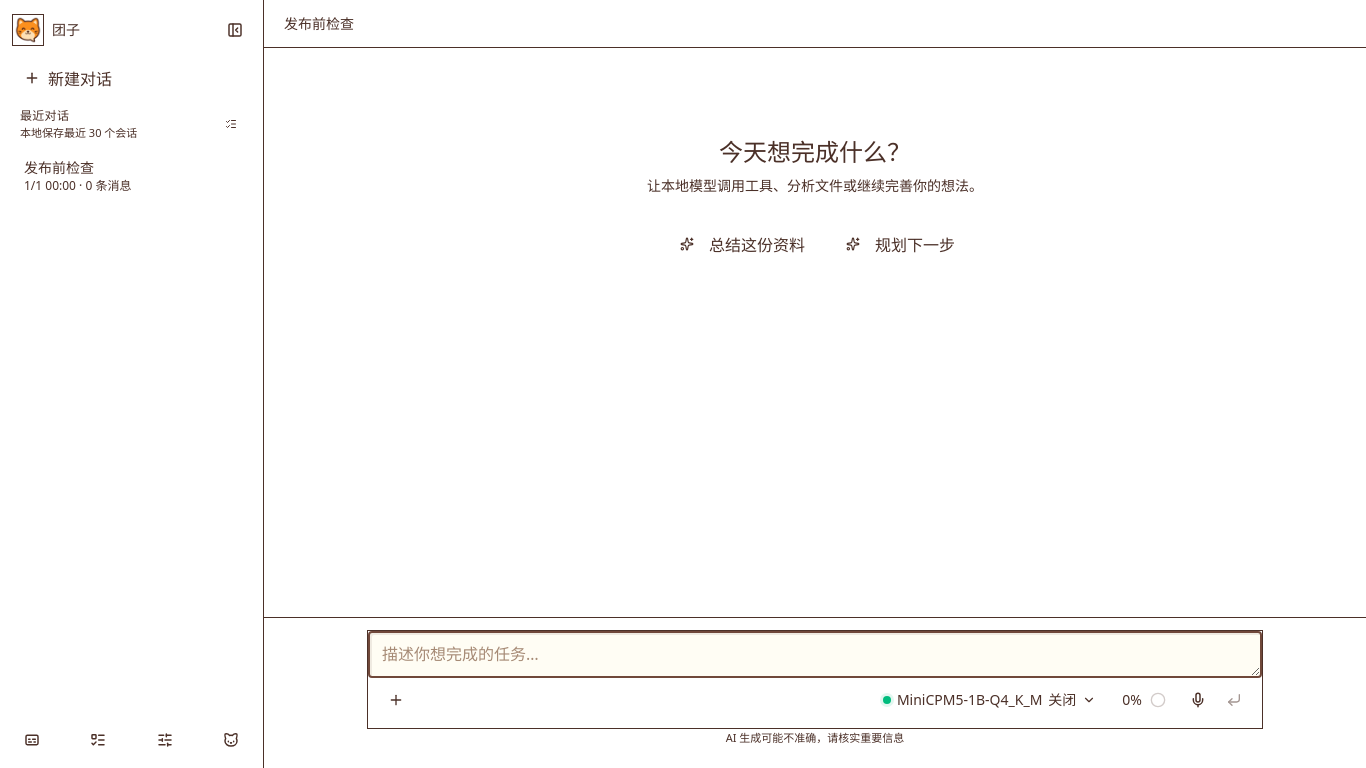
Test: ChatPanel workbench › uses keyboard-accessible official composer controls
Step 1. Click the button with aria-label "模型 MiniCPM5-1B-Q4_K_M，推理关闭" → {"x": 990, "y": 700}, box left=873, top=684, right=1106, bottom=716
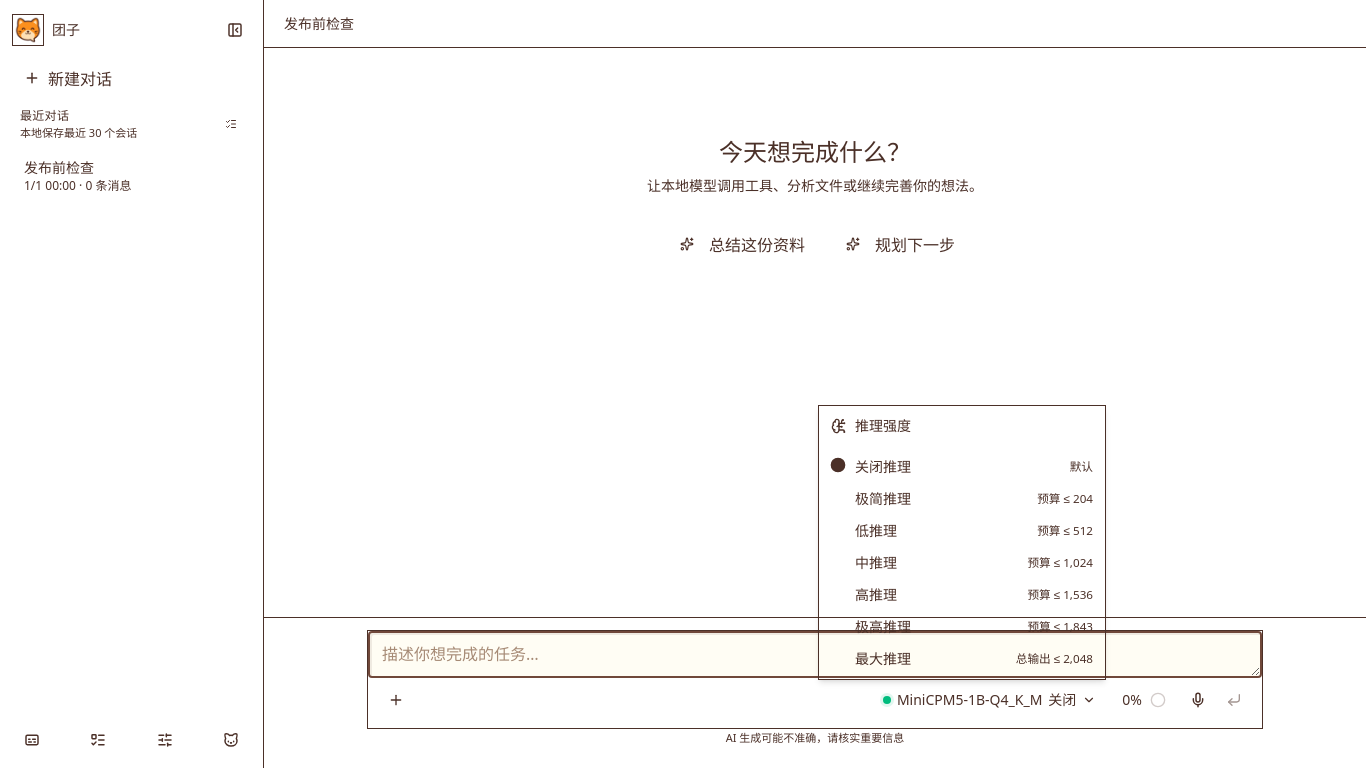
Step 2. Click the menu item "高推理 预算 ≤ 1,536" → {"x": 862, "y": 594}, box left=855, top=585, right=1093, bottom=604
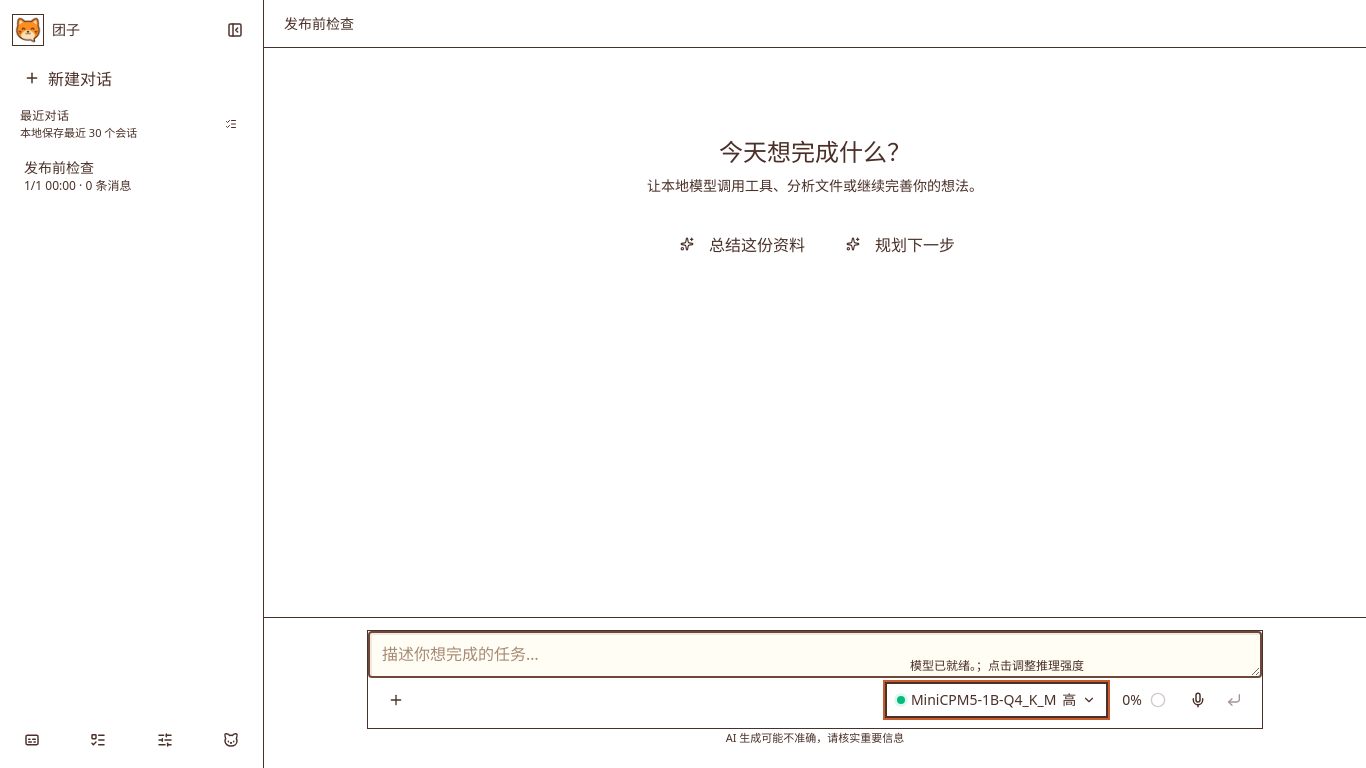
expect the button with aria-label "模型 MiniCPM5-1B-Q4_K_M，推理高" is shown: met, box left=887, top=684, right=1106, bottom=716
Step 3. Click the button named "上下文上限 8,192 token，完成一次回答后显示用量" → {"x": 1144, "y": 700}, box left=1110, top=686, right=1178, bottom=714
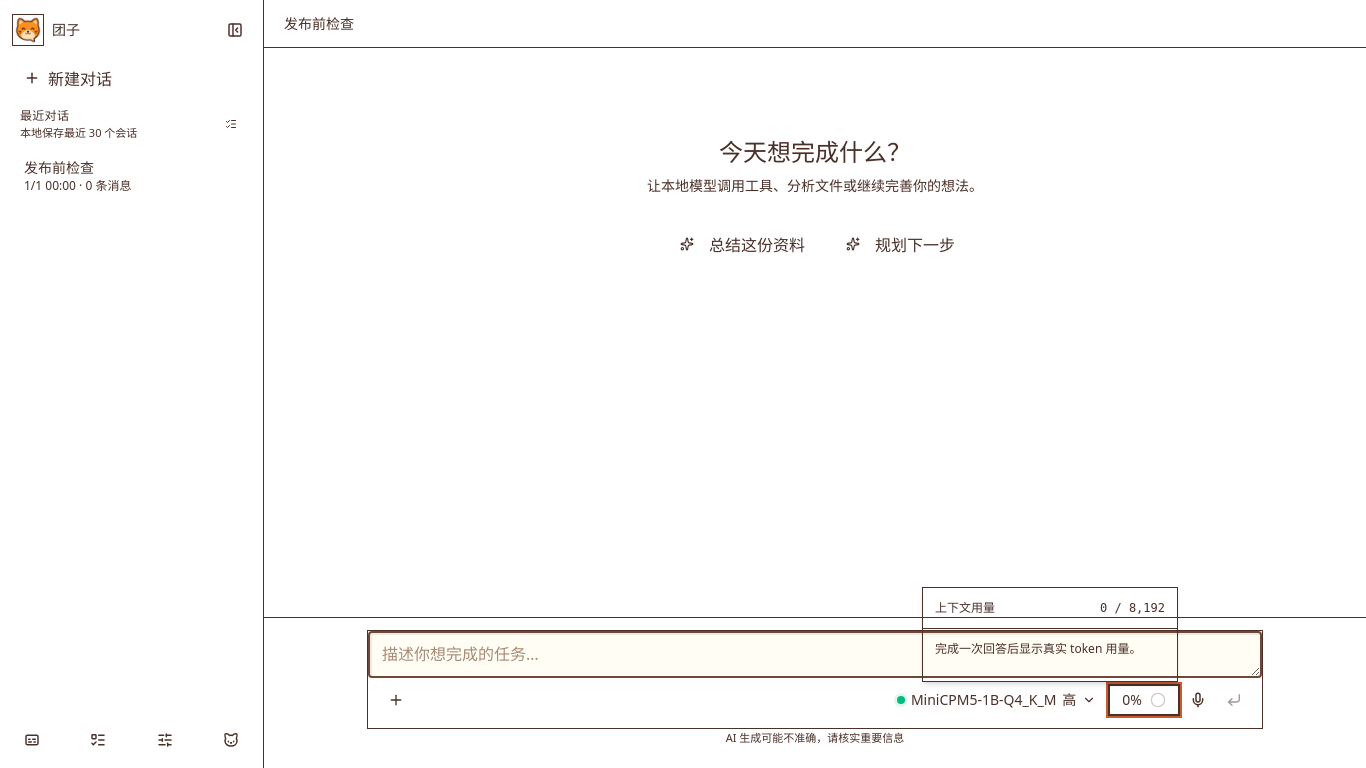
expect the text "上下文用量" is shown: met, box left=935, top=600, right=995, bottom=616
